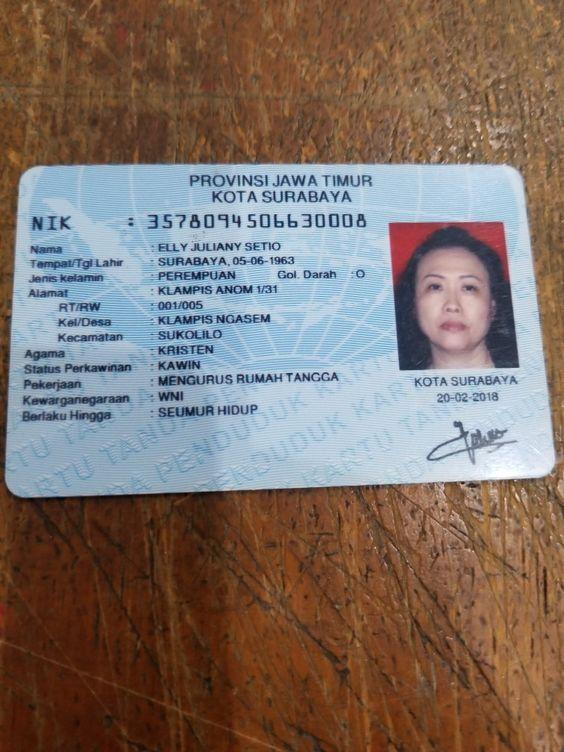ID-card: (8, 168, 551, 487)
